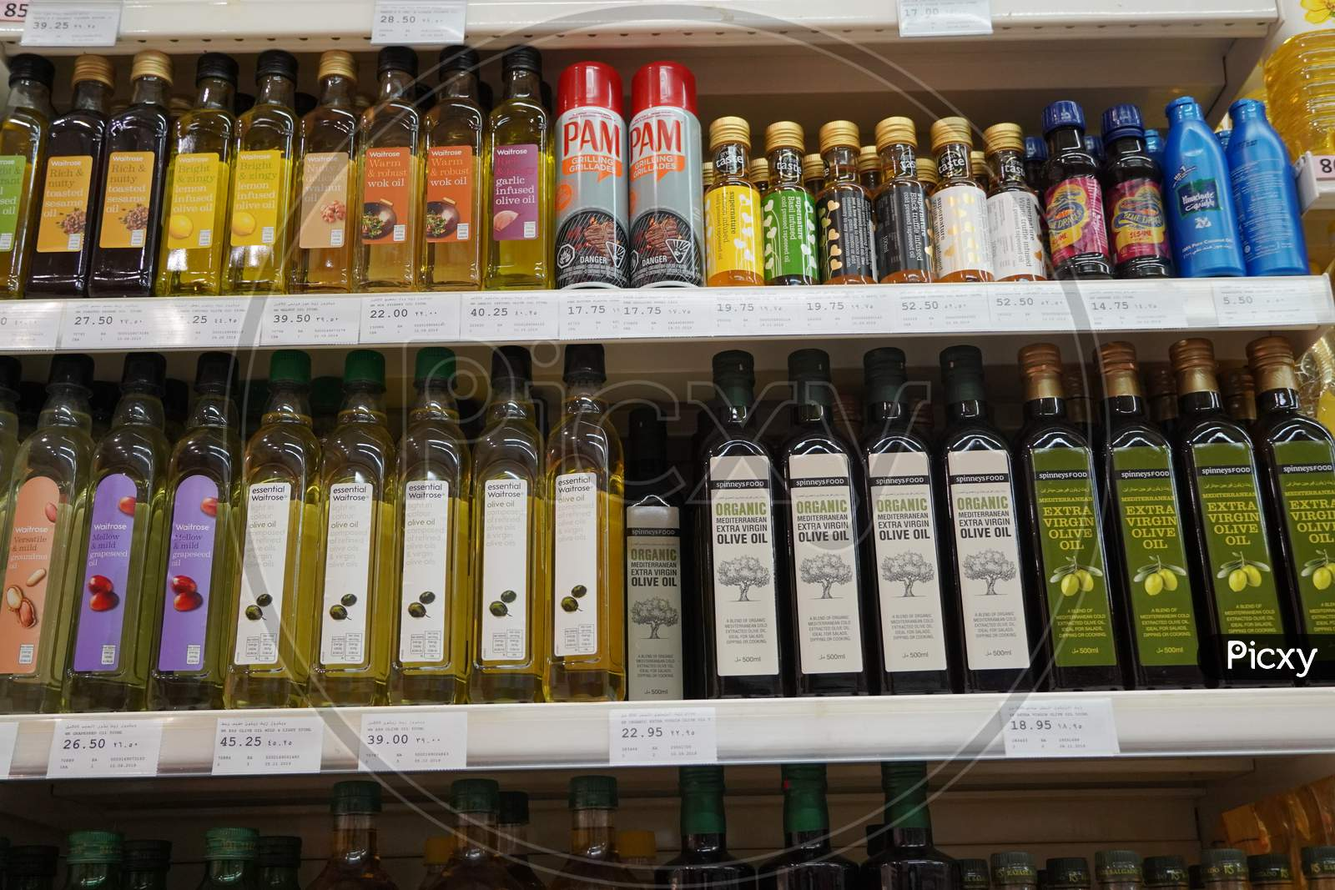parachute: (0, 63, 1081, 872), (140, 204, 1257, 480), (1158, 91, 1308, 280)
